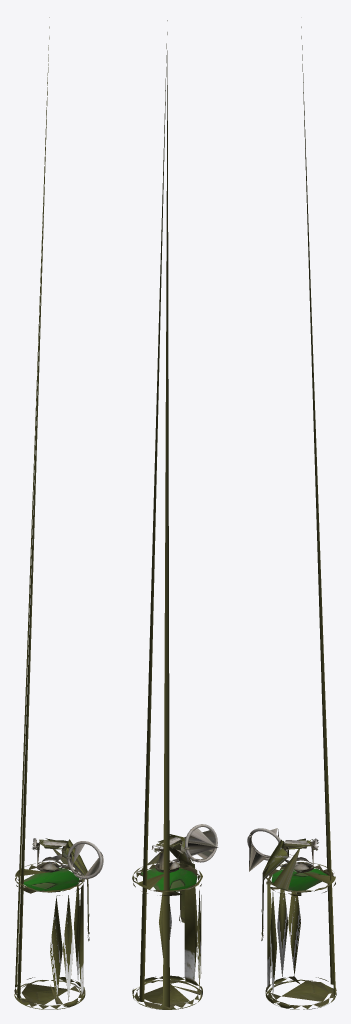
File: smokegrenade_lod_050.obj
3 views of the same model, side by side, from view 1: azimuth 90°, elevation 25°; view 2: azimuth 150°, elevation 25°; view 3: azimuth 270°, elevation 25° (orthographic).
Size of the model in its own units: 7.03 by 93.85 by 7.73.
1 material, 1 textured.
